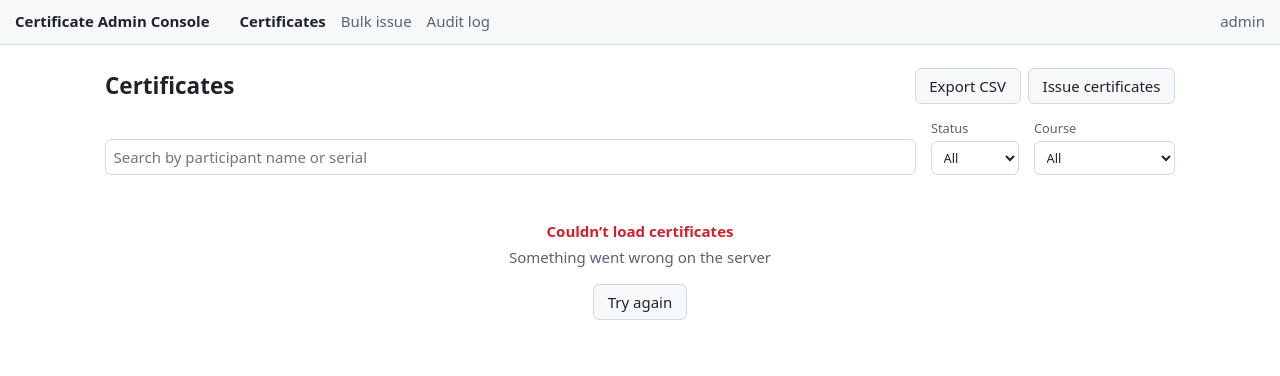
Test case: CertificateListPage › shows the error state and retries
Expected: the message shows "Couldn’t load certificates", [546, 221, 733, 241]
Expected: the message shows "Something went wrong on the server", [509, 247, 771, 267]
What coordinates should you click on to do the following:
click the button "Try again"
I would click on:
 (640, 302)
Its box is [593, 284, 687, 320].
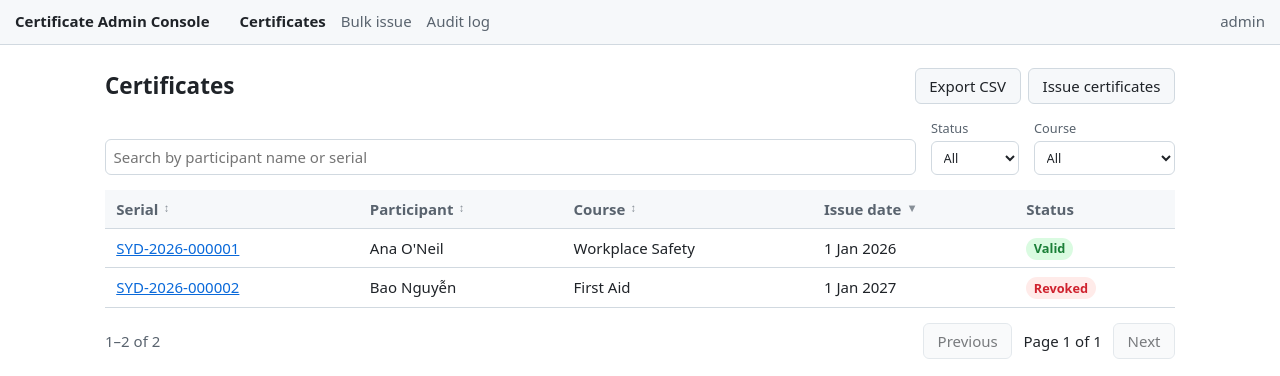
Result: the table is shown at [105, 190, 1175, 308]
